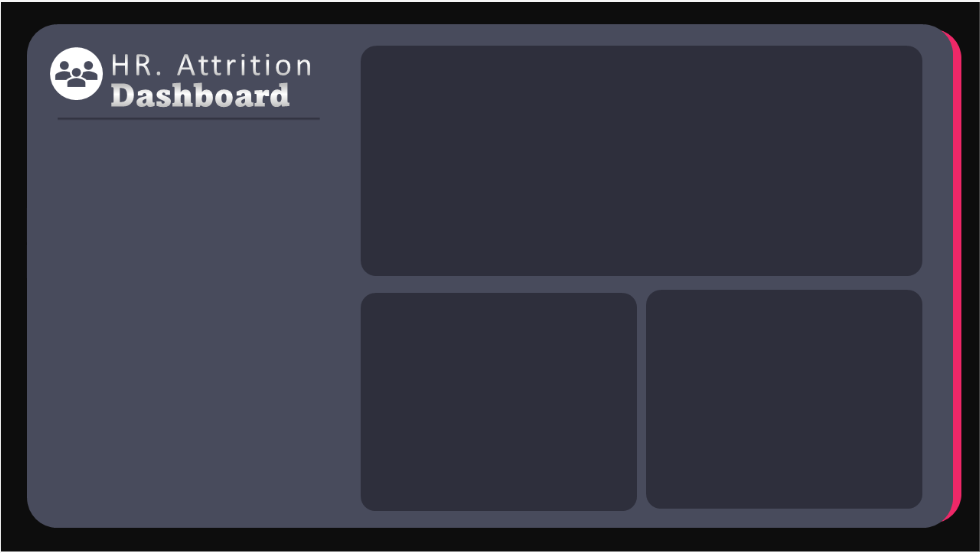

What the dashboard file says about the page in this screenshot:
{"tool":"powerbi","page":{"name":"Dashboard","canvas":[1280,720],"ordinal":0},"visuals":[{"type":"card","fields":{"Values":["_Measure.Total_emp"]},"box":[115.9,183.1,280.5,95.7],"z":0},{"type":"donutChart","title":"Attrition by Marital","fields":{"Y":["_Measure.Total_Attrition"],"Category":["Data.Marital Status"]},"box":[46.7,415,410,253.3],"z":1000},{"type":"columnChart","fields":{"Category":["Data.Attrition"],"Y":["Avg(Data.Job Involvement)"]},"box":[475,388.3,355,273.3],"z":2000},{"type":"card","fields":{"Values":["_Measure.% Attrition"]},"box":[133.3,330,246.7,85],"z":3000},{"type":"textbox","box":[115.9,154.5,280.5,55.4],"z":4000},{"type":"textbox","box":[116.7,275,280,70],"z":5000},{"type":"pieChart","title":"Attrition \"Yes\"","fields":{"Category":["Data.Over Time"],"Y":["_Measure.Total_Attrition"]},"box":[475,66.7,355,288.3],"z":6000},{"type":"pieChart","title":"Attrition \"No\"","fields":{"Category":["Data.Over Time"],"Y":["_Measure.Total_Active"]},"box":[843.3,66.7,355,288.3],"z":7000},{"type":"columnChart","title":"Attrition by Stock Option","fields":{"Y":["_Measure.Total_Attrition"],"Category":["Data.Stock Option Level"]},"box":[843.3,388.3,355,273.3],"z":8000}]}

Visuals, with their boxes in screenshot pixels (x1, y1, x2, y2), scaled from the page's 1280x720 canvas onto the 980x553 screenshot:
card - _Measure.Total_emp: bbox(89, 141, 303, 214)
"Attrition by Marital" donutChart: bbox(36, 319, 350, 513)
columnChart - Data.Attrition x Avg(Data.Job Involvement): bbox(364, 298, 635, 508)
card - _Measure.% Attrition: bbox(102, 253, 291, 319)
textbox: bbox(89, 119, 303, 161)
textbox: bbox(89, 211, 304, 265)
"Attrition "Yes"" pieChart: bbox(364, 51, 635, 273)
"Attrition "No"" pieChart: bbox(646, 51, 917, 273)
"Attrition by Stock Option" columnChart: bbox(646, 298, 917, 508)
